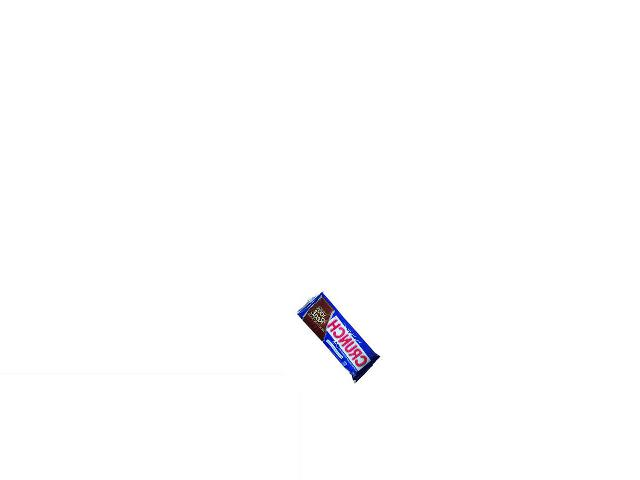chocolate: (295, 289, 380, 384)
